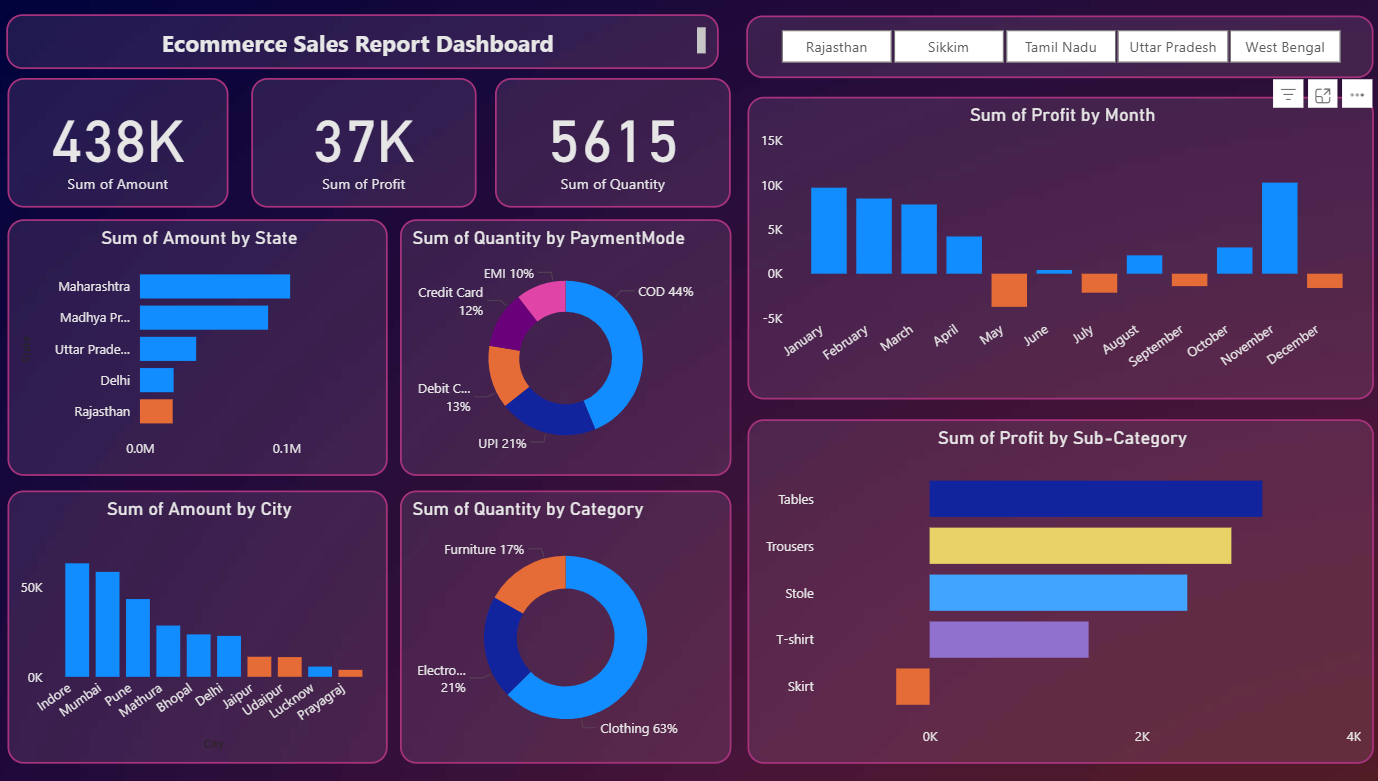

Layout of this report page (visuals, bound fields, positions):
{"tool":"powerbi","page":{"name":"OverView","canvas":[1280,720],"ordinal":0},"visuals":[{"type":"textbox","box":[10.9,14.5,655.1,50.7],"z":0},{"type":"columnChart","fields":{"Category":["Orders.Order Date.Variation.Date Hierarchy.Month"],"Y":["Sum(Details.Profit)"]},"box":[691.6,90.6,576.3,278.6],"z":1000},{"type":"clusteredBarChart","fields":{"Category":["Details.Sub-Category"],"Y":["Sum(Details.Profit)"]},"box":[691.6,387,576.3,317],"z":2000},{"type":"donutChart","fields":{"Category":["Details.Category"],"Y":["Sum(Details.Quantity)"]},"box":[371.9,452.8,304.6,251.1],"z":3000},{"type":"donutChart","fields":{"Y":["Sum(Details.Quantity)"],"Category":["Details.PaymentMode"]},"box":[371.9,203.1,304.6,236],"z":4000},{"type":"clusteredBarChart","fields":{"Category":["Orders.State"],"Y":["Sum(Details.Amount)"]},"box":[11,203.1,349.9,236],"z":5000},{"type":"card","fields":{"Values":["Sum(Details.Amount)"]},"box":[11,74.1,203.1,119.4],"z":6000},{"type":"card","fields":{"Values":["Sum(Details.Profit)"]},"box":[236,74.1,207.2,119.4],"z":7000},{"type":"card","fields":{"Values":["Sum(Details.Quantity)"]},"box":[459.7,74.1,216.8,119.4],"z":8000},{"type":"clusteredColumnChart","fields":{"Y":["Sum(Details.Amount)"],"Category":["Orders.City"]},"box":[11,452.8,349.9,251.1],"z":9000},{"type":"slicer","fields":{"Values":["Orders.State"]},"box":[691.3,15.7,576.7,57.9],"z":10000}]}

Visuals, with their boxes in screenshot pixels (x1, y1, x2, y2), scaled from the page's 1280x720 canvas onto the 1378x781 screenshot:
textbox: locate(12, 16, 717, 71)
columnChart - Orders.Order Date.Variation.Date Hierarchy.Month x Sum(Details.Profit): locate(745, 98, 1365, 400)
clusteredBarChart - Details.Sub-Category x Sum(Details.Profit): locate(745, 420, 1365, 764)
donutChart - Details.Category x Sum(Details.Quantity): locate(400, 491, 728, 764)
donutChart - Sum(Details.Quantity) x Details.PaymentMode: locate(400, 220, 728, 476)
clusteredBarChart - Orders.State x Sum(Details.Amount): locate(12, 220, 389, 476)
card - Sum(Details.Amount): locate(12, 80, 230, 210)
card - Sum(Details.Profit): locate(254, 80, 477, 210)
card - Sum(Details.Quantity): locate(495, 80, 728, 210)
clusteredColumnChart - Sum(Details.Amount) x Orders.City: locate(12, 491, 389, 764)
slicer - Orders.State: locate(744, 17, 1365, 80)
